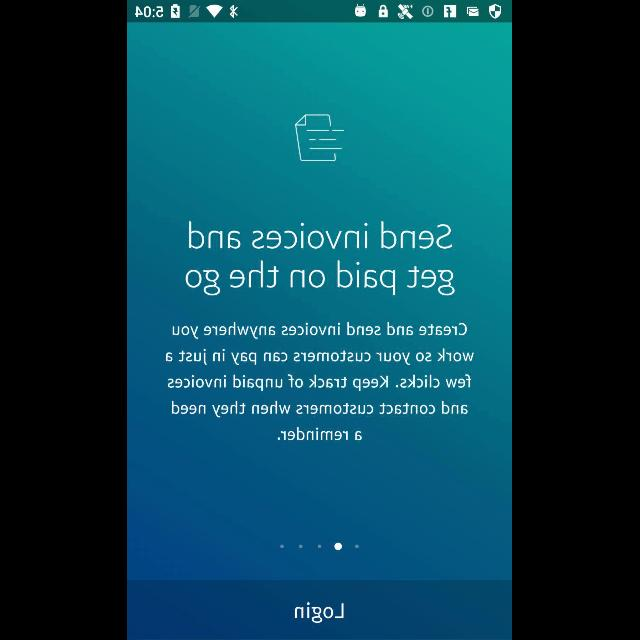image: (294, 115, 346, 162)
pageindicator: (280, 543, 360, 551)
text: (167, 323, 475, 441), (187, 221, 455, 295)
textbutton: (128, 580, 512, 640)
uppertaskbar: (128, 1, 512, 23)
